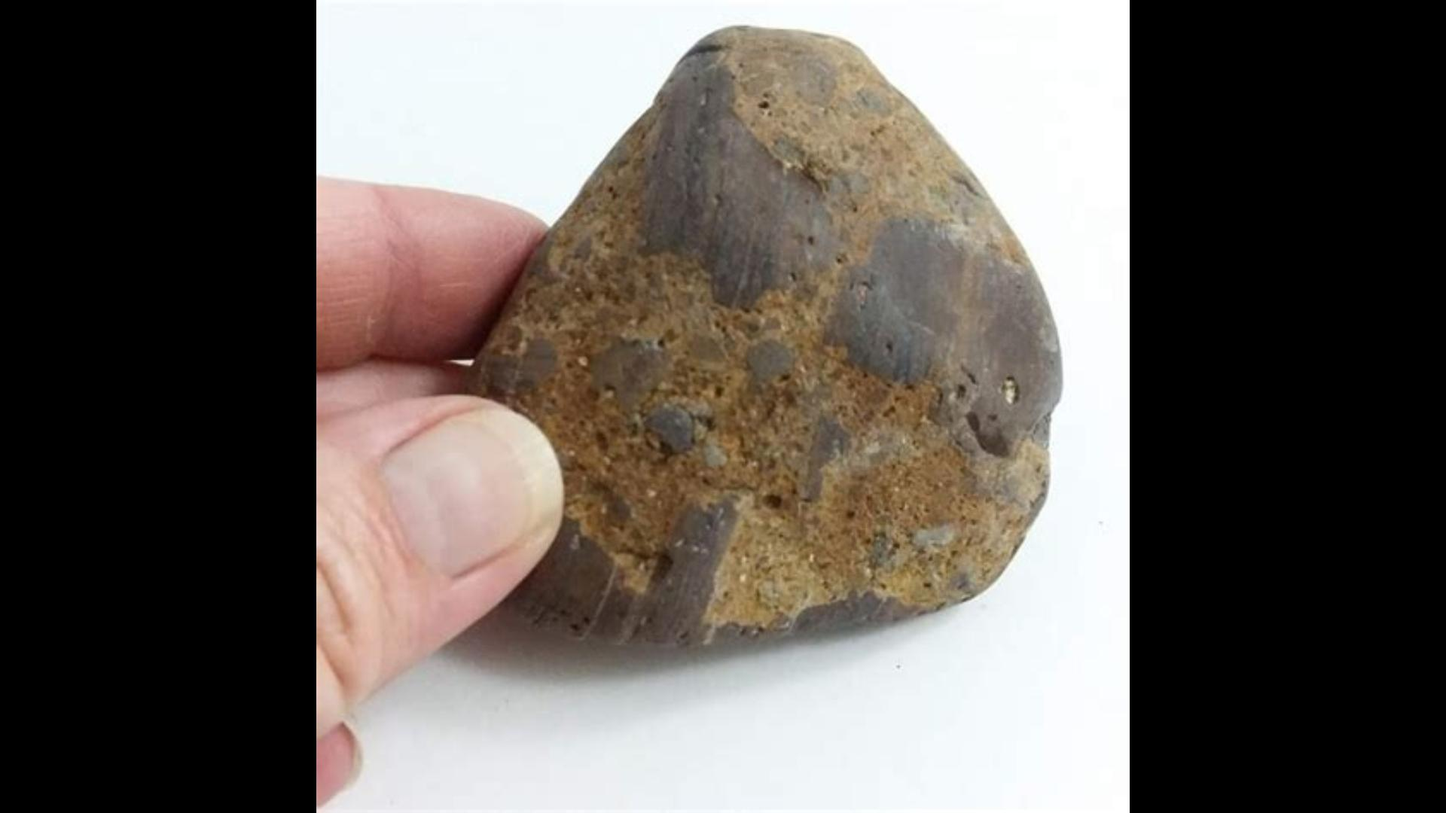rock: (472, 27, 1059, 641)
